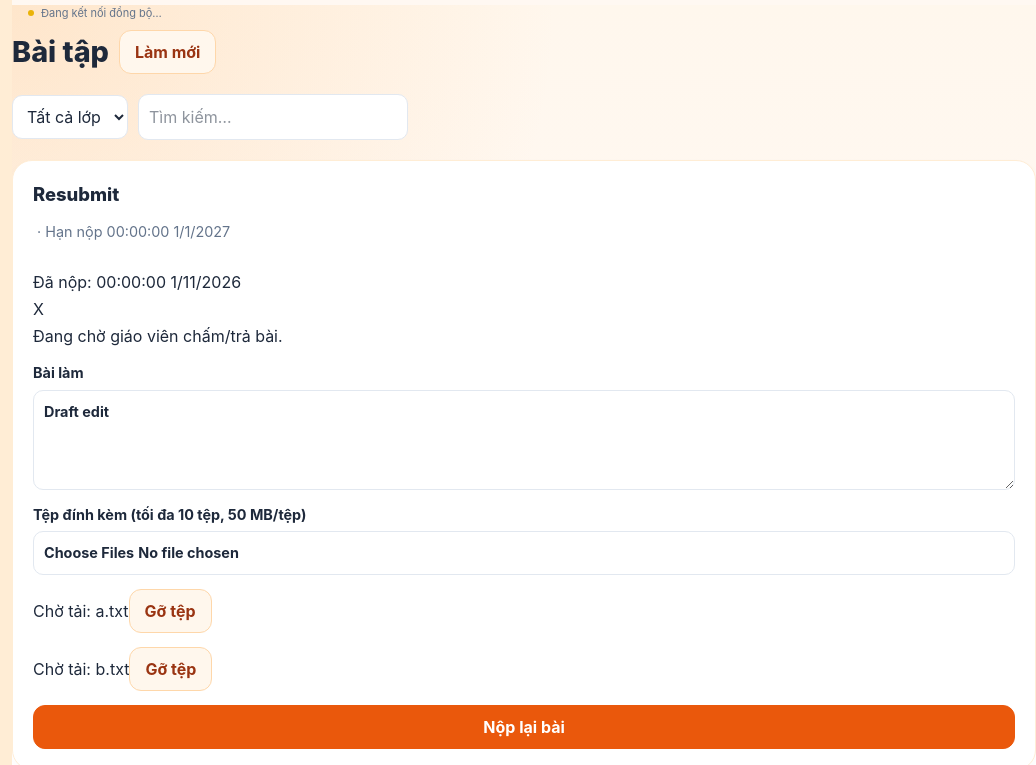
Test: API portal screens › keeps edited text and uploaded files after an upload failure for retry
Earlier steps of the test are not shown.
Click the button "Nộp lại bài". click: click(524, 727)
box: [33,705,1015,749]
(page scrolled)
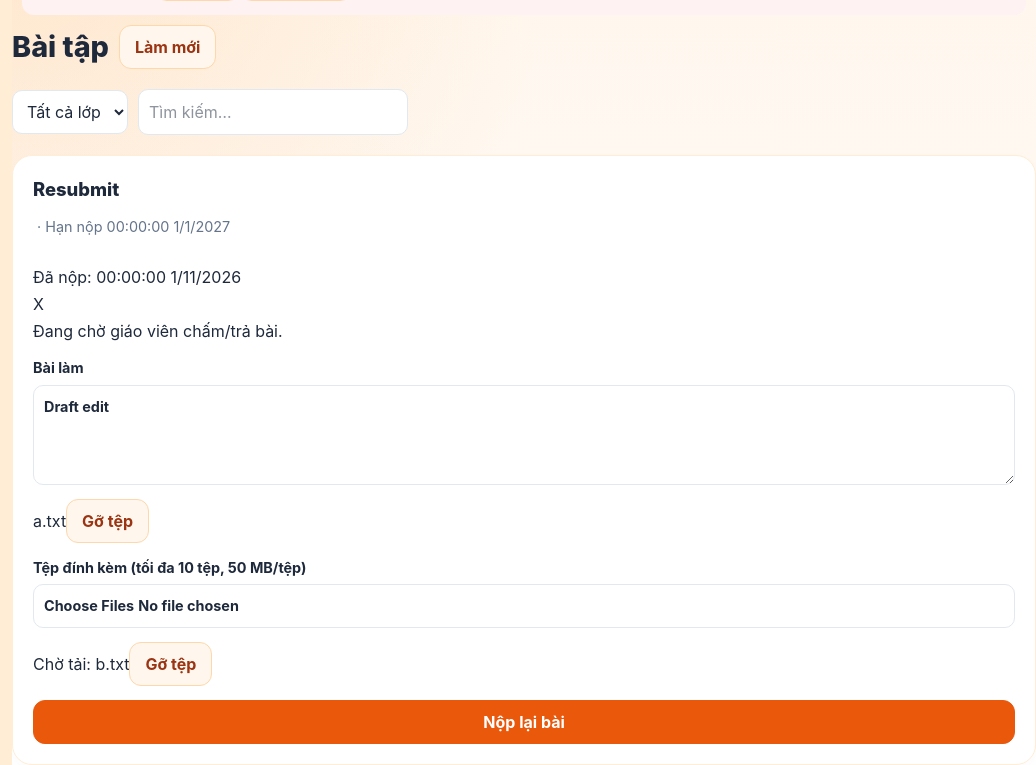
Expected: the text box labelled "Bài làm" holds "Draft edit", [33,385,1015,485]
Click the button "Nộp lại bài". click: click(524, 722)
box: [33,700,1015,744]
(page scrolled)
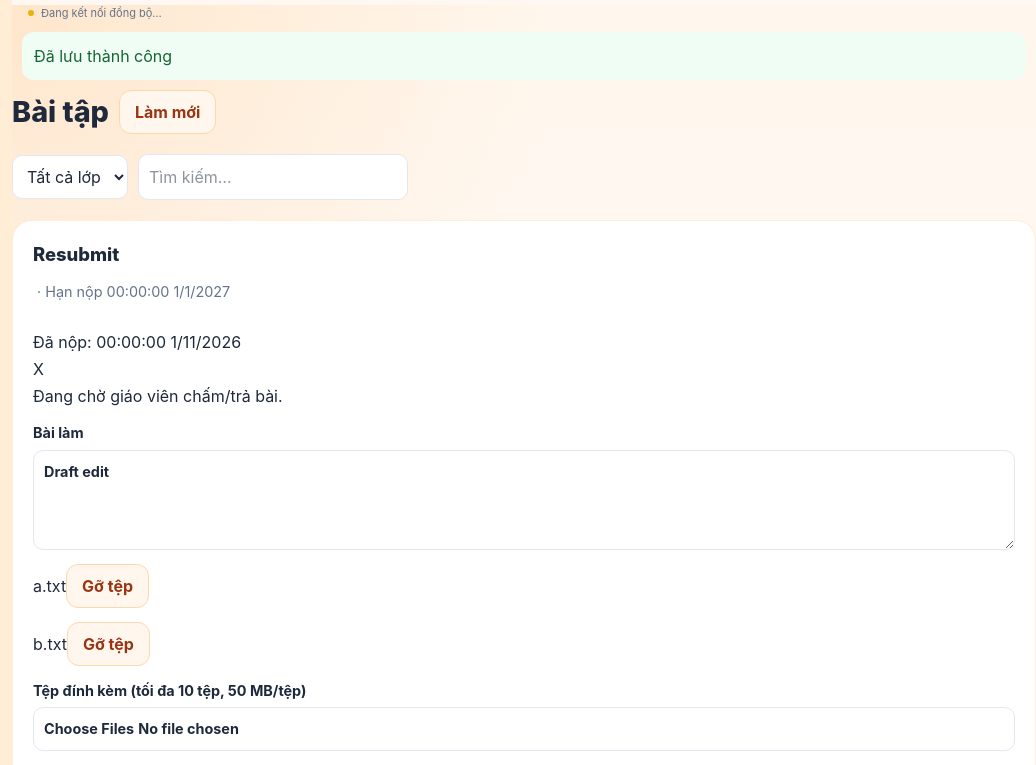
Expected: the text "Đã lưu thành công" is shown, [22,32,1026,80]
